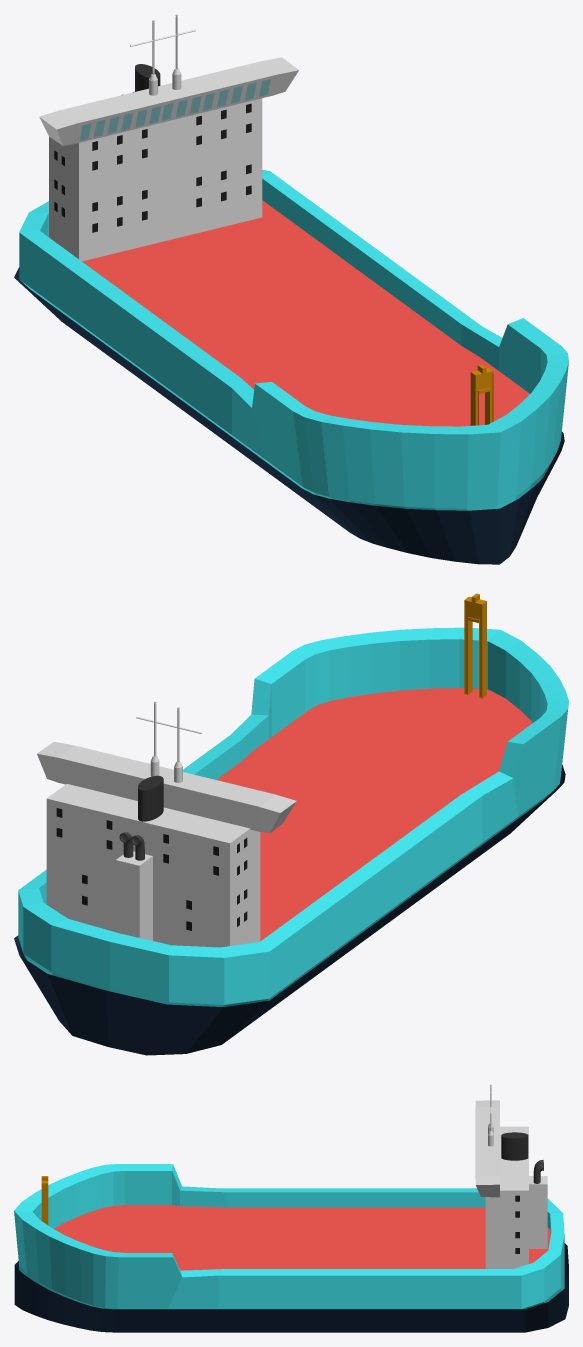
File: container-ship-empty.glb
The picture shows the model from 3 angles, top to bottom: view 1: azimuth 30°, elevation 25°; view 2: azimuth 150°, elevation 25°; view 3: azimuth 270°, elevation 25°; orthographic projection. The views are drawn at different scales.
Parts seen in each view (by area): view 1: body, deck, Cube, body.001, crain; view 2: body, deck, Cube, body.001, crain, Cylinder; view 3: body, deck, body.001, Cube, Cylinder, crain.
Part boxes in pixels (bbox=[...]): body: bbox=[19, 170, 568, 510]; deck: bbox=[48, 200, 529, 426]; Cube: bbox=[39, 57, 298, 261]; body.001: bbox=[14, 267, 564, 564]; crain: bbox=[470, 364, 493, 425]; body: bbox=[18, 627, 568, 1006]; deck: bbox=[217, 688, 532, 941]; Cube: bbox=[37, 742, 296, 947]; body.001: bbox=[14, 765, 565, 1055]; crain: bbox=[464, 593, 486, 698]; Cylinder: bbox=[138, 775, 163, 821]; body: bbox=[14, 1164, 564, 1309]; deck: bbox=[54, 1205, 550, 1270]; body.001: bbox=[14, 1243, 568, 1332]; Cube: bbox=[475, 1100, 547, 1268]; Cylinder: bbox=[501, 1132, 528, 1160]; crain: bbox=[41, 1176, 48, 1225].
Bounding box in the file's own units: 1.67 × 1.87 × 4.2.
